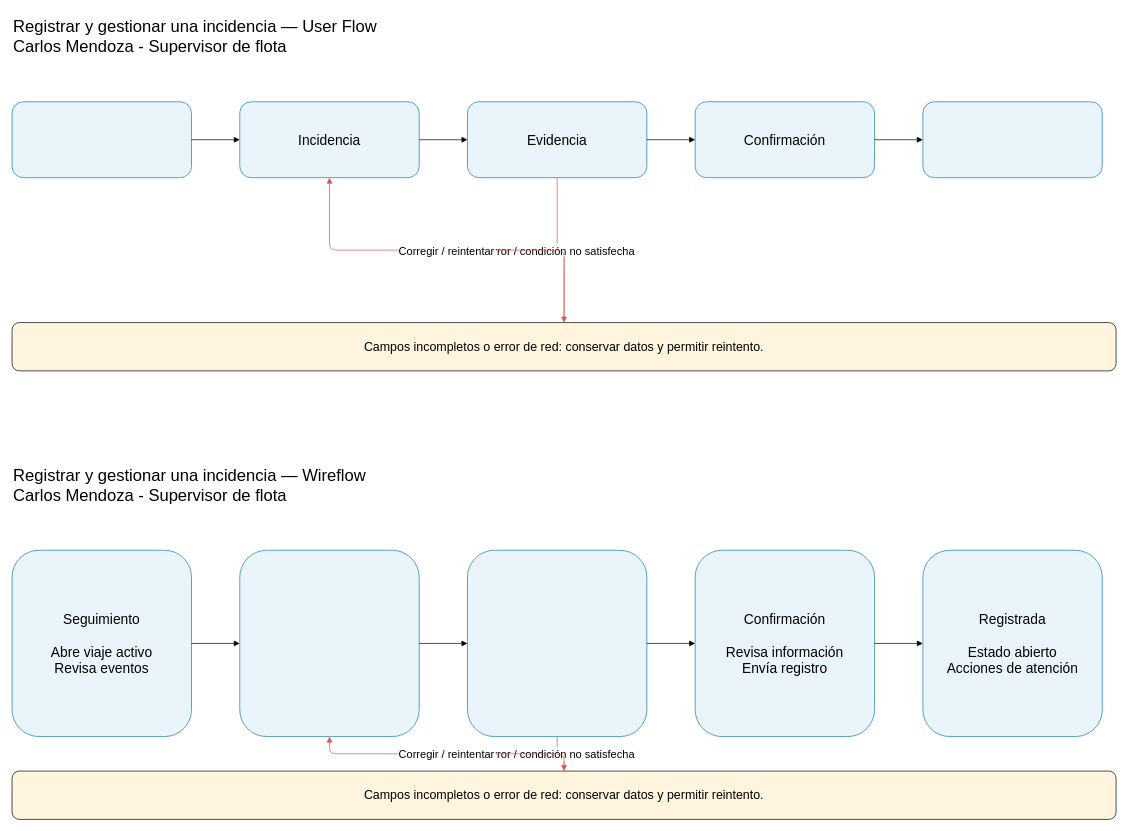
Image size: 1128x831. Some labels were removed from this diagram. Here are the shapes that lost their labels. From the top down, the centre of each, then its label:
At [101,139]: "Seguimiento".
At [1012,139]: "Registrada".
At [329,643]: "Incidencia Selecciona Registrar Tipo y severidad".
At [557,643]: "Evidencia Describe el evento Adjunta referencia".
